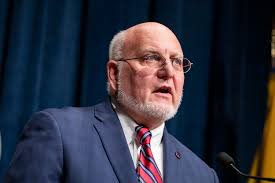noMask: (101, 13, 193, 127)
